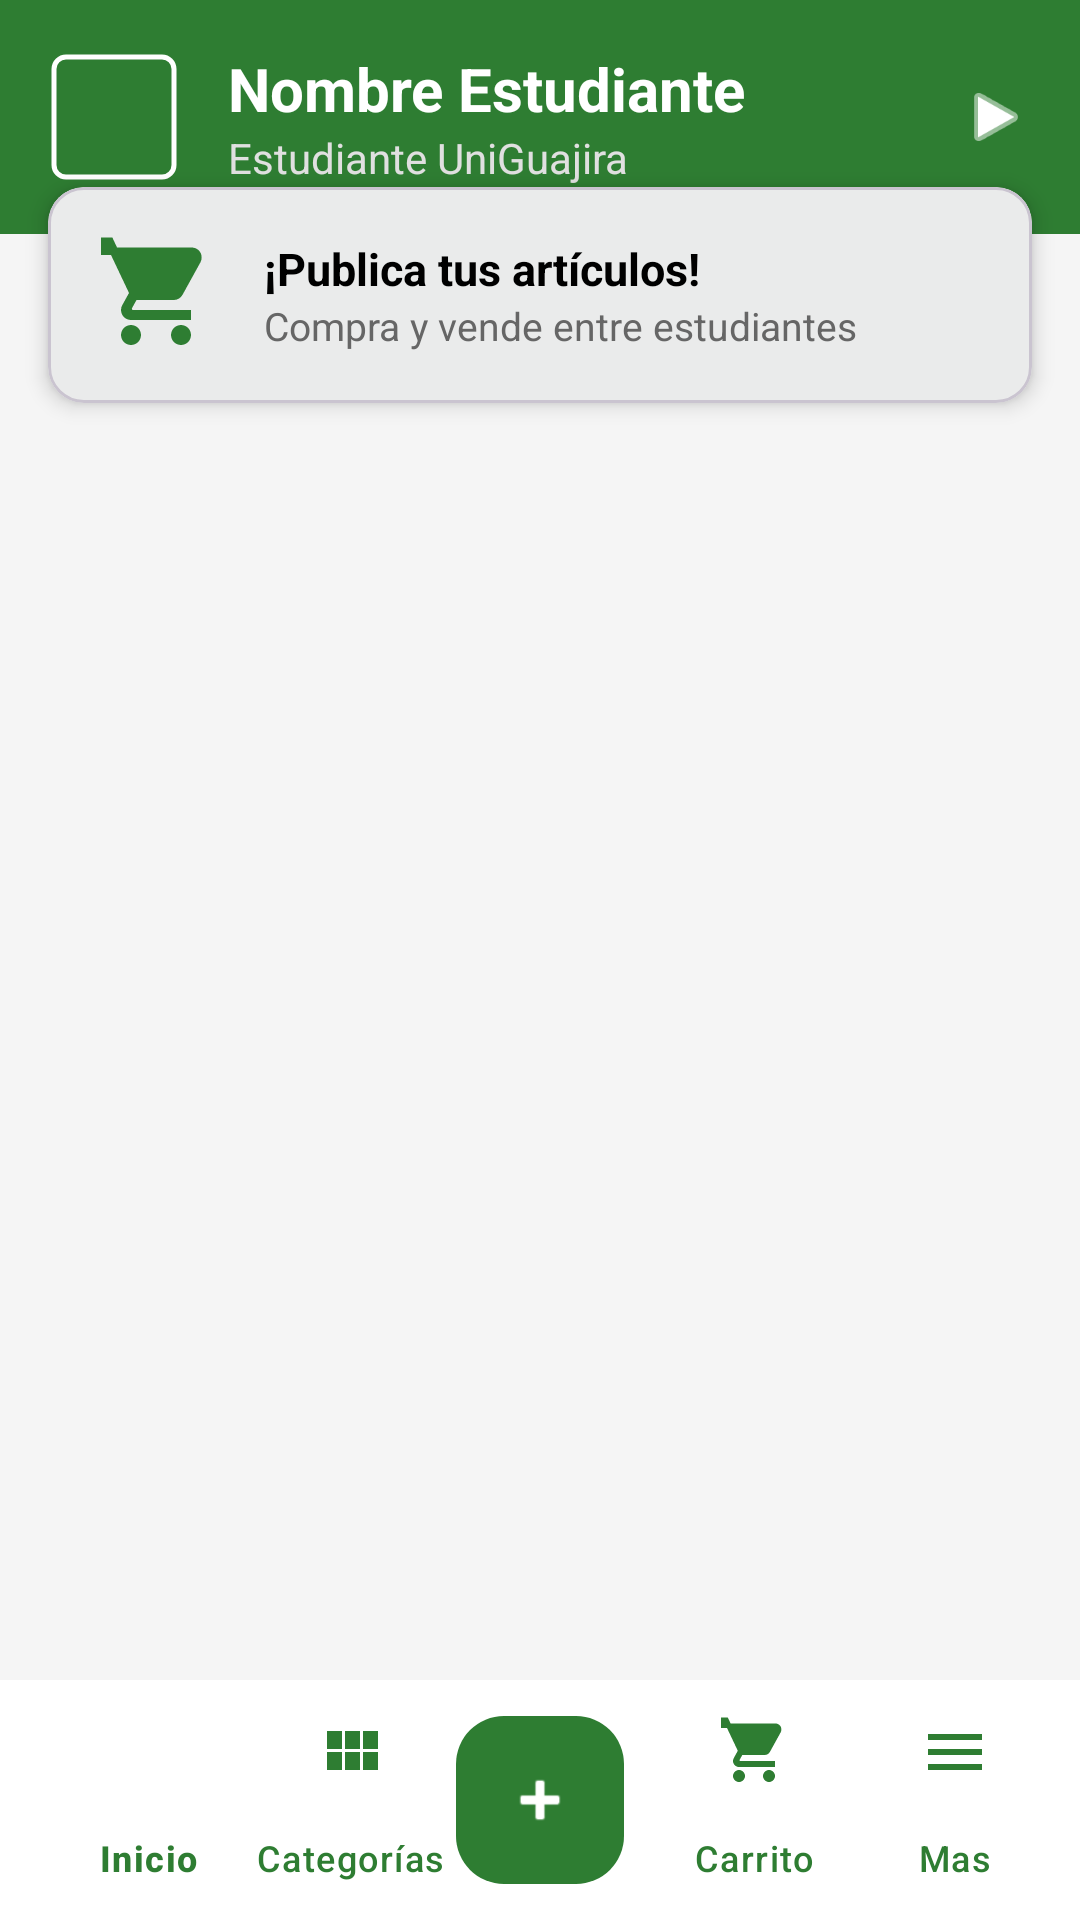

Where to tap for icons on this 1080px x 1920px app screen, as (x,y):
cart: (151,291)
play: (996,117)
Publicar Producto: (540,1818)
